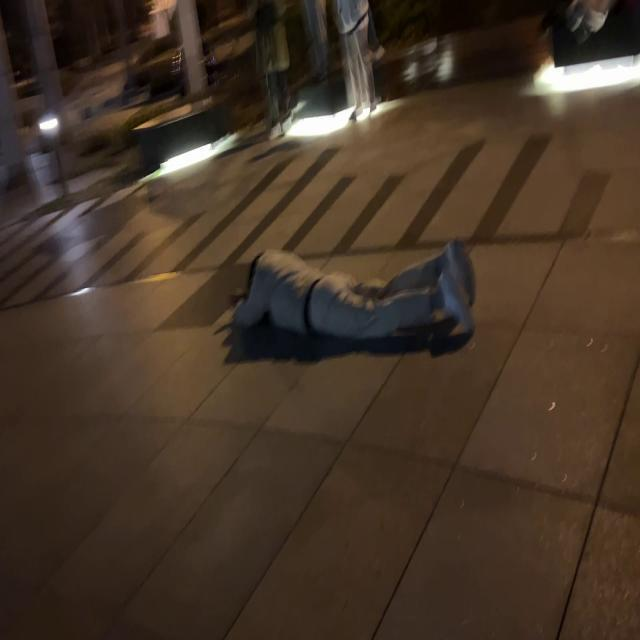Fall: (234, 240, 476, 342)
